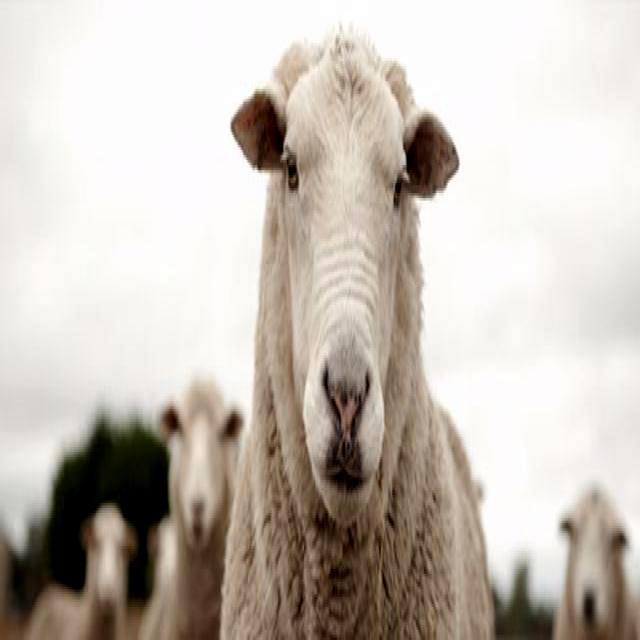sheep: (219, 27, 495, 640)
